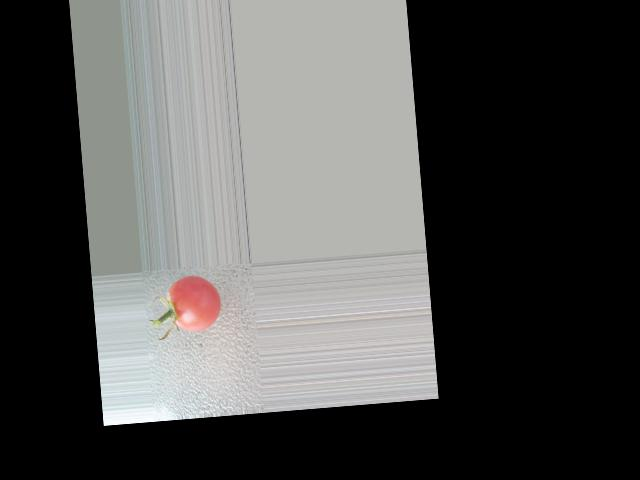tomato: (167, 274, 223, 334)
